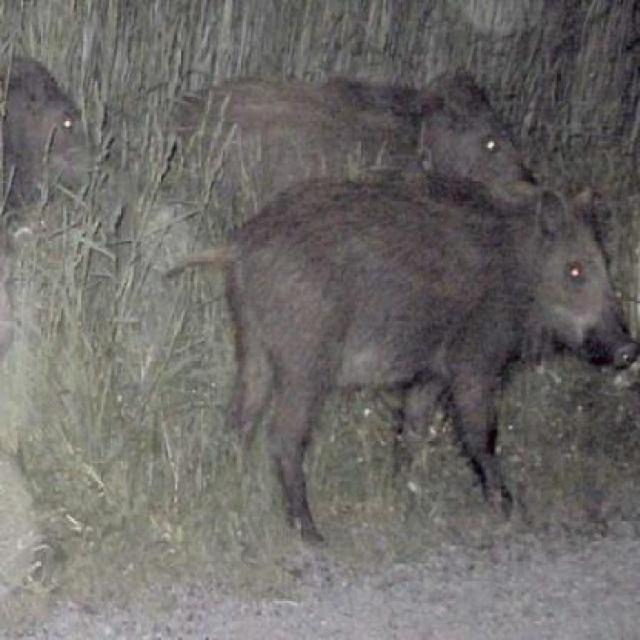pig: (218, 155, 640, 543)
